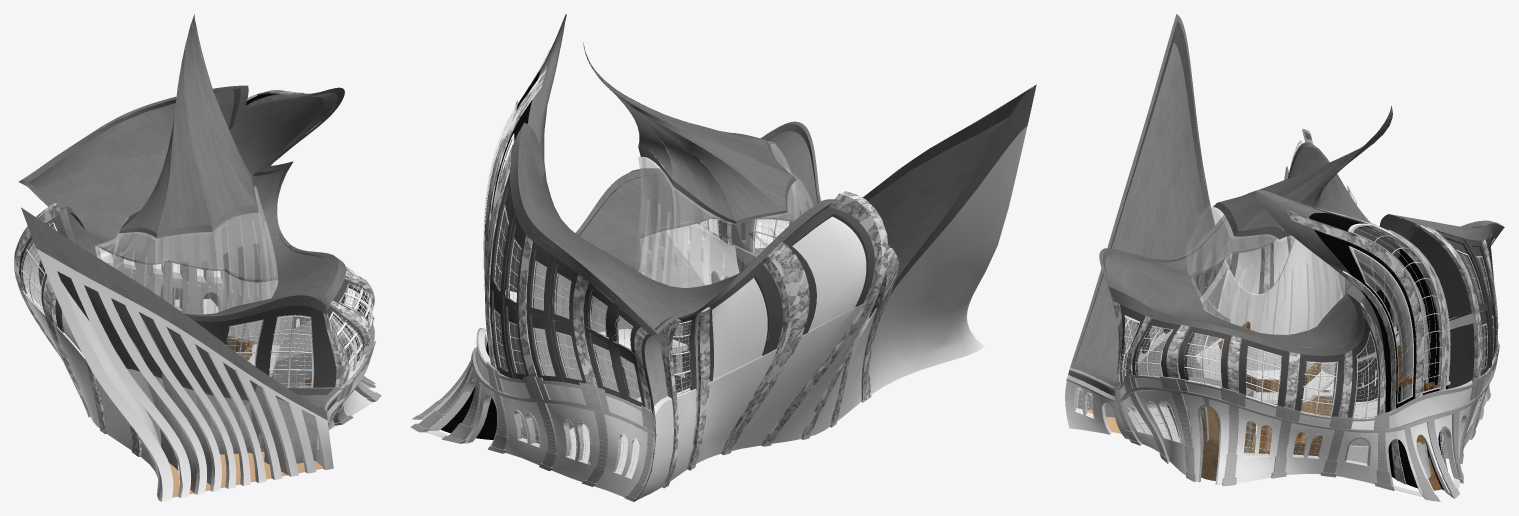
The picture shows the model from 3 angles, left to right: view 1: azimuth 30°, elevation 25°; view 2: azimuth 150°, elevation 25°; view 3: azimuth 270°, elevation 25°; orthographic projection. The views are drawn at different scales.
Parts seen in each view (by area): view 1: Group 5, Merged Objects 2, Layer 01; view 2: Group 5, Merged Objects 2, Layer 01; view 3: Group 5, Merged Objects 2, Merged Objects, Layer 01.
Boxes of the visible parts, x1,y1,x2,y2 form: Group 5: (14,14,381,501); Merged Objects 2: (21,90,373,387); Layer 01: (169,361,322,497); Group 5: (410,14,1036,501); Merged Objects 2: (483,100,879,479); Layer 01: (566,332,682,477); Group 5: (1065,14,1504,501); Merged Objects 2: (1074,140,1494,459); Merged Objects: (1202,321,1438,453); Layer 01: (1079,404,1441,490).
Size of the model in its own units: 38.96 by 31.41 by 36.61.
Materials: 13 (8 with a texture image).
